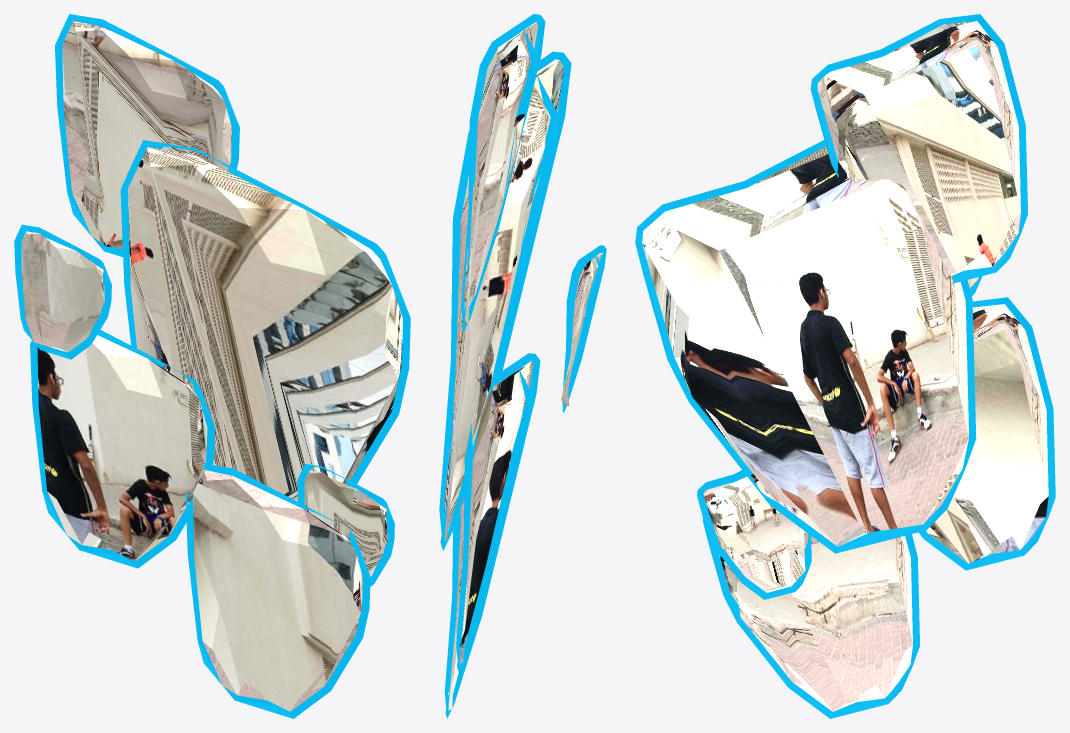
The model's file is Social_Cohesion.glb.
3 views of the same model, side by side, from view 1: azimuth 30°, elevation 25°; view 2: azimuth 150°, elevation 25°; view 3: azimuth 270°, elevation 25° (orthographic). The views are drawn at different scales.
Parts seen in each view (by area): view 1: Dr. Bhakti More.001; view 2: Dr. Bhakti More.001; view 3: Dr. Bhakti More.001.
Boxes of the visible parts, x1,y1,x2,y2 form: Dr. Bhakti More.001: (14,14,410,718); Dr. Bhakti More.001: (439,14,606,718); Dr. Bhakti More.001: (635,14,1055,718).
Size of the model in its own units: 1.79 by 4.72 by 2.81.
Materials: 2 (1 with a texture image).
